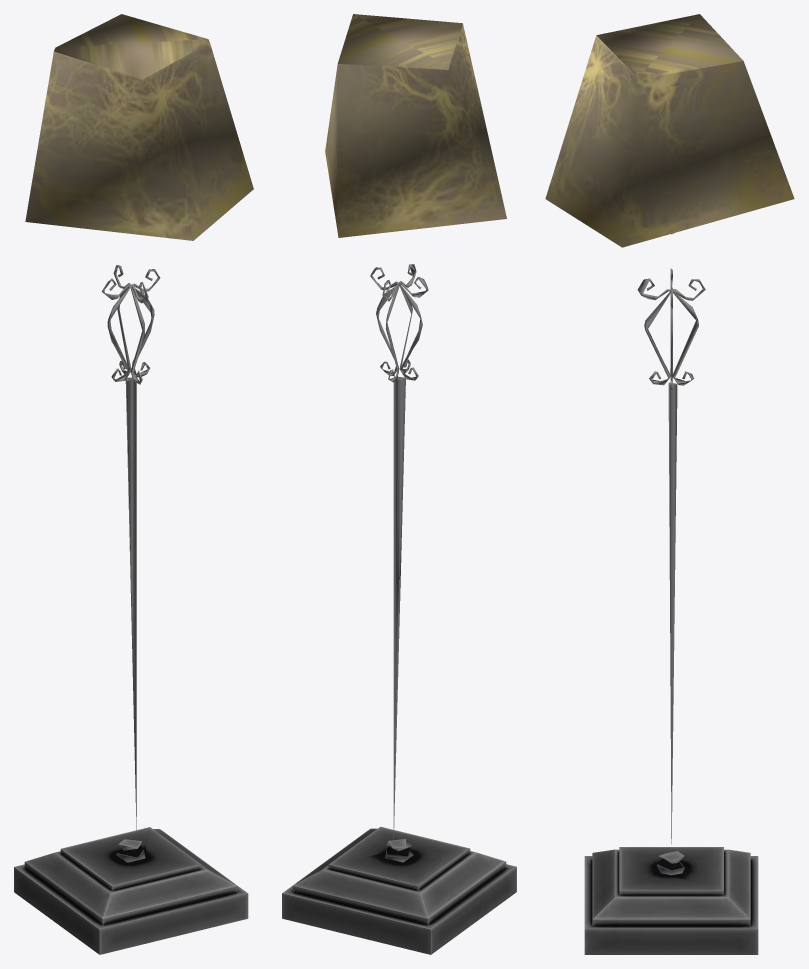
File: floor-lamp.lod0.glb
3 renders of one model, left to right at view 1: azimuth 30°, elevation 25°; view 2: azimuth 150°, elevation 25°; view 3: azimuth 270°, elevation 25°, orthographic.
Parts seen in each view (by area): view 1: defaultMaterial; view 2: defaultMaterial; view 3: defaultMaterial.
Part boxes in pixels (<box>): defaultMaterial: <box>14,14,253,954</box>; defaultMaterial: <box>282,14,516,954</box>; defaultMaterial: <box>545,14,794,954</box>.
Size of the model in its own units: 0.3981 by 1.6 by 0.4137.
1 material, 1 textured.
